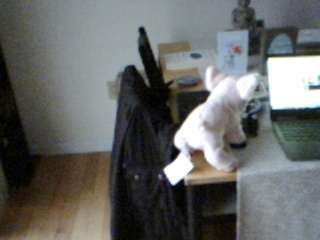piggy: (173, 65, 260, 174)
